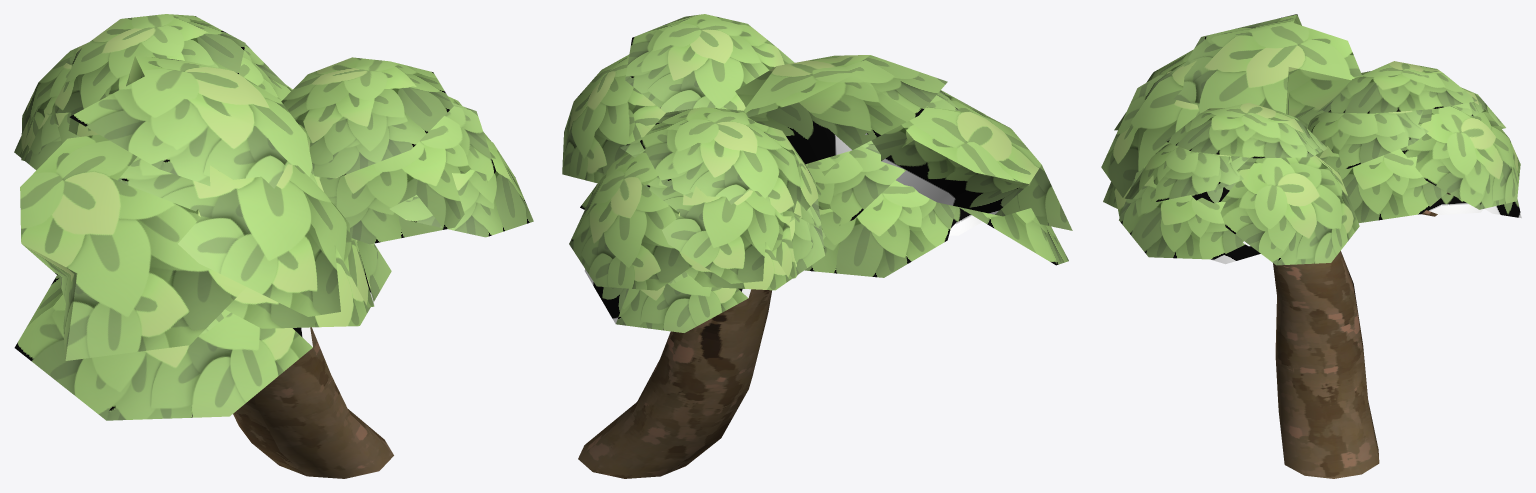
File: Tree1_2.glb
3 renders of one model, left to right at view 1: azimuth 30°, elevation 25°; view 2: azimuth 150°, elevation 25°; view 3: azimuth 270°, elevation 25°, orthographic. The views are drawn at different scales.
Visible parts, largest first — view 1: Tree_2; view 2: Tree_2; view 3: Tree_2.
Boxes of the visible parts, left/top/right/bottom form: Tree_2: left=14, top=14, right=533, bottom=478; Tree_2: left=562, top=14, right=1072, bottom=478; Tree_2: left=1101, top=14, right=1521, bottom=478.
Bounding box in the file's own units: 6.64 × 5.69 × 6.13.
Materials: 2 (2 with a texture image).
